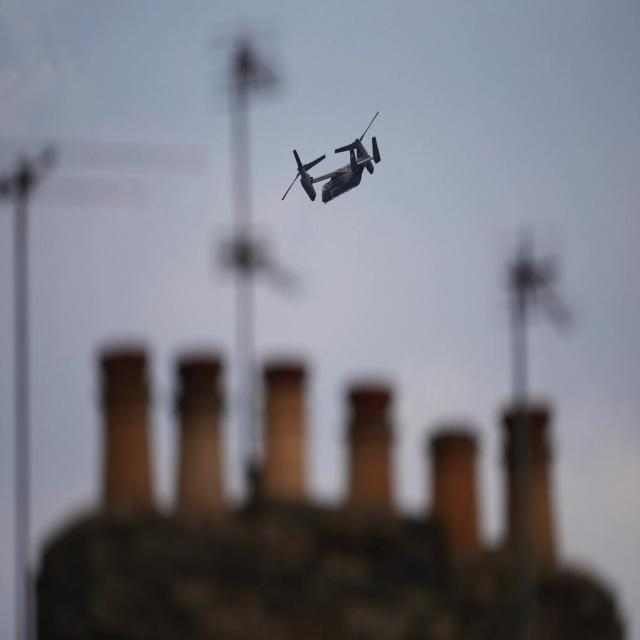MIL_Plane: (281, 112, 381, 205)
